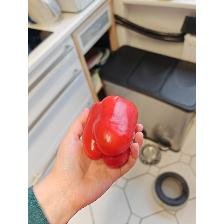Paprika: (81, 94, 139, 168)
